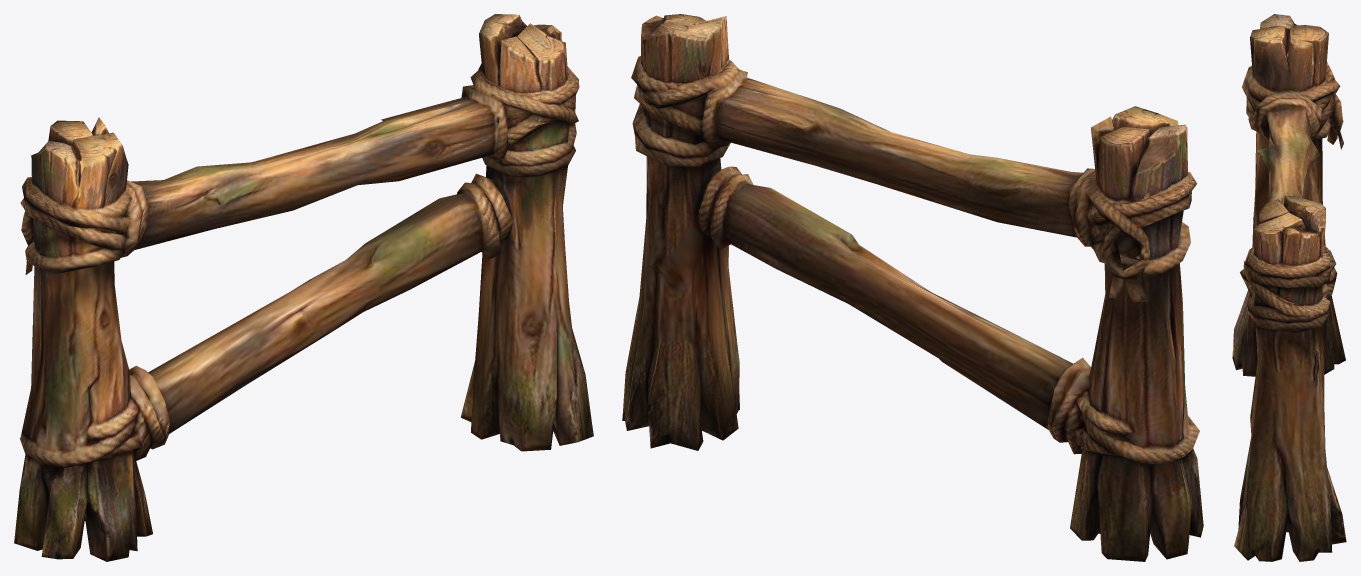
The model's file is prop-fence-rope-v2-desktop.glb.
3 renders of one model, left to right at view 1: azimuth 30°, elevation 25°; view 2: azimuth 150°, elevation 25°; view 3: azimuth 270°, elevation 25°, orthographic. The views are drawn at different scales.
Visible parts, largest first — view 1: tripo_node_aa03e0cd-da52-4859-8077-0e12633ee987; view 2: tripo_node_aa03e0cd-da52-4859-8077-0e12633ee987; view 3: tripo_node_aa03e0cd-da52-4859-8077-0e12633ee987.
Boxes of the visible parts, x1,y1,x2,y2 form: tripo_node_aa03e0cd-da52-4859-8077-0e12633ee987: (14, 14, 593, 561); tripo_node_aa03e0cd-da52-4859-8077-0e12633ee987: (622, 14, 1203, 561); tripo_node_aa03e0cd-da52-4859-8077-0e12633ee987: (1232, 14, 1346, 561).
Bounding box in the file's own units: 0.9785 × 0.6812 × 0.2095.
1 material, 1 textured.
